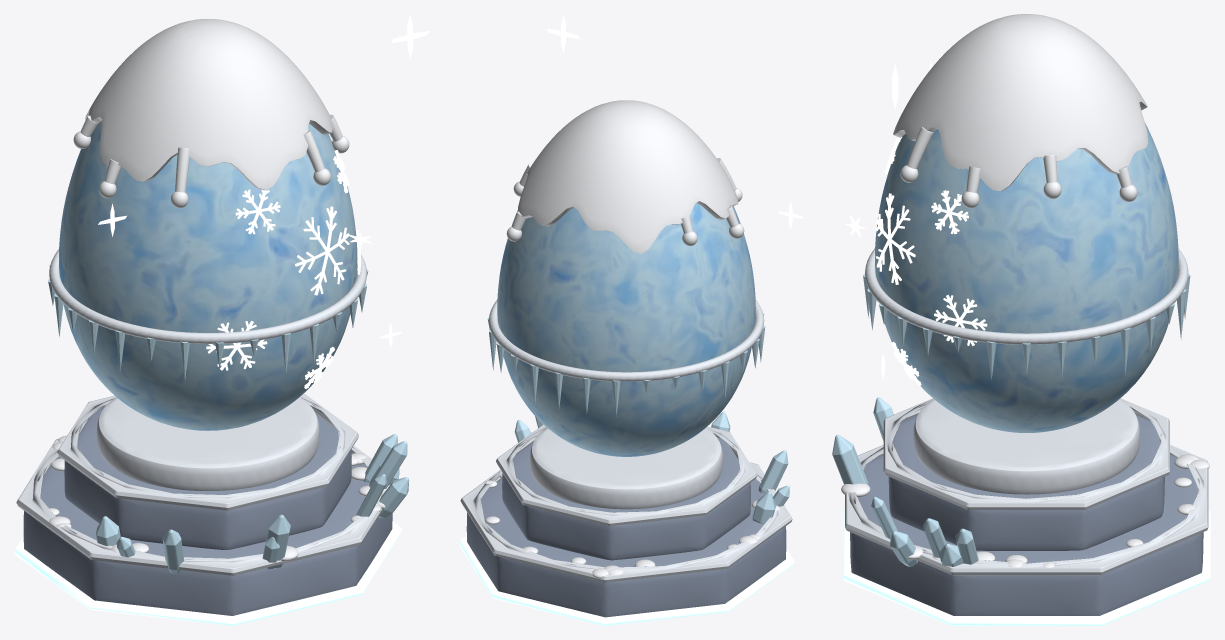
The model's file is frostbiteegg.glb.
3 renders of one model, left to right at view 1: azimuth 30°, elevation 25°; view 2: azimuth 150°, elevation 25°; view 3: azimuth 270°, elevation 25°, orthographic. The views are drawn at different scales.
Visible parts, largest first — view 1: FrostbiteEgg_Body, FrostbiteEgg_SnowCap, FrostbiteEgg_Stand_Base, FrostbiteEgg_Stand_Cup, FrostbiteEgg_Stand_Mid, FrostbiteEgg_Stand_Trim, FrostbiteEgg_Stand_Trim.001, FrostbiteEgg_Stand_Trim.002, FrostbiteEgg_IceBelt, FrostbiteEgg_BaseCrystal.003, FrostbiteEgg_BaseCrystal.005, FrostbiteEgg_BaseCrystal.002 (+3 smaller); view 2: FrostbiteEgg_Body, FrostbiteEgg_SnowCap, FrostbiteEgg_Stand_Base, FrostbiteEgg_Stand_Mid, FrostbiteEgg_Stand_Cup, FrostbiteEgg_Stand_Trim, FrostbiteEgg_Stand_Trim.001, FrostbiteEgg_Stand_Trim.002, FrostbiteEgg_IceBelt, FrostbiteEgg_BaseCrystal.002, FrostbiteEgg_BaseCrystal.007; view 3: FrostbiteEgg_Body, FrostbiteEgg_SnowCap, FrostbiteEgg_Stand_Base, FrostbiteEgg_Stand_Cup, FrostbiteEgg_Stand_Mid, FrostbiteEgg_Stand_Trim, FrostbiteEgg_Stand_Trim.001, FrostbiteEgg_Stand_Trim.002, FrostbiteEgg_IceBelt, FrostbiteEgg_BaseCrystal, FrostbiteEgg_BaseCrystal.005, FrostbiteEgg_BaseCrystal.008 (+3 smaller).
Boxes of the visible parts, left/top/right/bottom form: FrostbiteEgg_Body: left=59, top=121, right=357, bottom=430; FrostbiteEgg_SnowCap: left=85, top=19, right=332, bottom=190; FrostbiteEgg_Stand_Base: left=23, top=456, right=392, bottom=615; FrostbiteEgg_Stand_Cup: left=96, top=397, right=319, bottom=490; FrostbiteEgg_Stand_Mid: left=64, top=408, right=351, bottom=549; FrostbiteEgg_Stand_Trim: left=16, top=439, right=389, bottom=575; FrostbiteEgg_Stand_Trim.001: left=57, top=393, right=358, bottom=510; FrostbiteEgg_Stand_Trim.002: left=14, top=521, right=402, bottom=625; FrostbiteEgg_IceBelt: left=49, top=249, right=366, bottom=343; FrostbiteEgg_BaseCrystal.003: left=369, top=441, right=407, bottom=489; FrostbiteEgg_BaseCrystal.005: left=378, top=477, right=409, bottom=517; FrostbiteEgg_BaseCrystal.002: left=162, top=529, right=184, bottom=573; FrostbiteEgg_Body: left=497, top=203, right=755, bottom=456; FrostbiteEgg_SnowCap: left=517, top=100, right=738, bottom=253; FrostbiteEgg_Stand_Base: left=466, top=479, right=786, bottom=617; FrostbiteEgg_Stand_Mid: left=502, top=437, right=750, bottom=560; FrostbiteEgg_Stand_Cup: left=530, top=428, right=722, bottom=509; FrostbiteEgg_Stand_Trim: left=460, top=462, right=792, bottom=582; FrostbiteEgg_Stand_Trim.001: left=496, top=424, right=756, bottom=526; FrostbiteEgg_Stand_Trim.002: left=458, top=535, right=794, bottom=625; FrostbiteEgg_IceBelt: left=489, top=300, right=764, bottom=381; FrostbiteEgg_BaseCrystal.002: left=758, top=450, right=788, bottom=493; FrostbiteEgg_BaseCrystal.007: left=752, top=491, right=775, bottom=523; FrostbiteEgg_Body: left=875, top=123, right=1178, bottom=432; FrostbiteEgg_SnowCap: left=893, top=14, right=1147, bottom=191; FrostbiteEgg_Stand_Base: left=850, top=454, right=1203, bottom=615; FrostbiteEgg_Stand_Cup: left=913, top=399, right=1139, bottom=494; FrostbiteEgg_Stand_Mid: left=888, top=415, right=1164, bottom=550; FrostbiteEgg_Stand_Trim: left=845, top=445, right=1208, bottom=575; FrostbiteEgg_Stand_Trim.001: left=883, top=398, right=1169, bottom=509; FrostbiteEgg_Stand_Trim.002: left=842, top=510, right=1210, bottom=625; FrostbiteEgg_IceBelt: left=865, top=248, right=1188, bottom=344; FrostbiteEgg_BaseCrystal: left=832, top=434, right=868, bottom=484; FrostbiteEgg_BaseCrystal.005: left=890, top=531, right=917, bottom=566; FrostbiteEgg_BaseCrystal.008: left=955, top=528, right=978, bottom=564.
Bounding box in the file's own units: 3.1 × 5.12 × 3.16.
8 materials, 1 textured.
